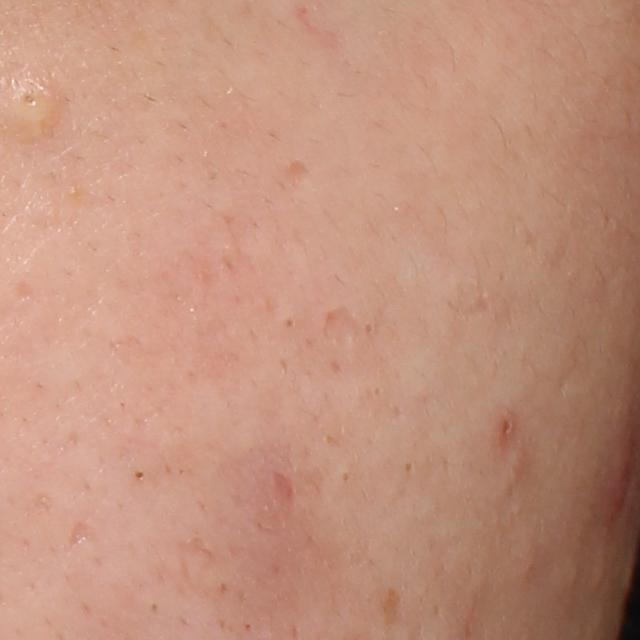atrophic_scar: (319, 303, 368, 348), (277, 151, 314, 188), (68, 520, 102, 552), (269, 467, 297, 505)
comedo: (7, 79, 53, 127), (360, 319, 377, 336)
papule: (600, 434, 638, 518), (493, 412, 520, 440)
